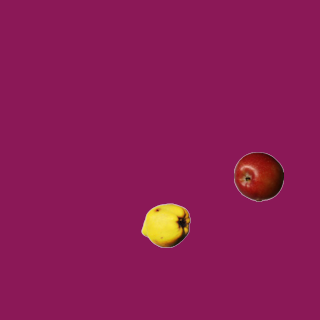Apple Braeburn: (233, 151, 283, 201)
Quince: (140, 200, 190, 250)
